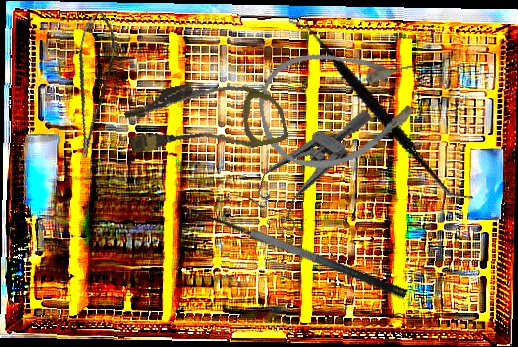Cannula: (251, 33, 430, 180), (120, 65, 290, 173)
Micro Scissor: (54, 8, 125, 160)
Spatula Surgical: (253, 15, 508, 203), (184, 199, 408, 318)
Speculum: (239, 82, 374, 245)
